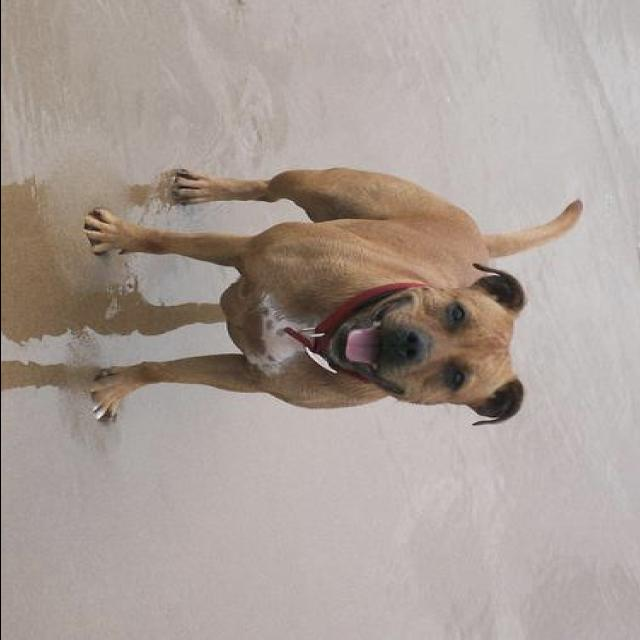staffordshire_bullterrier: (86, 158, 582, 428)
